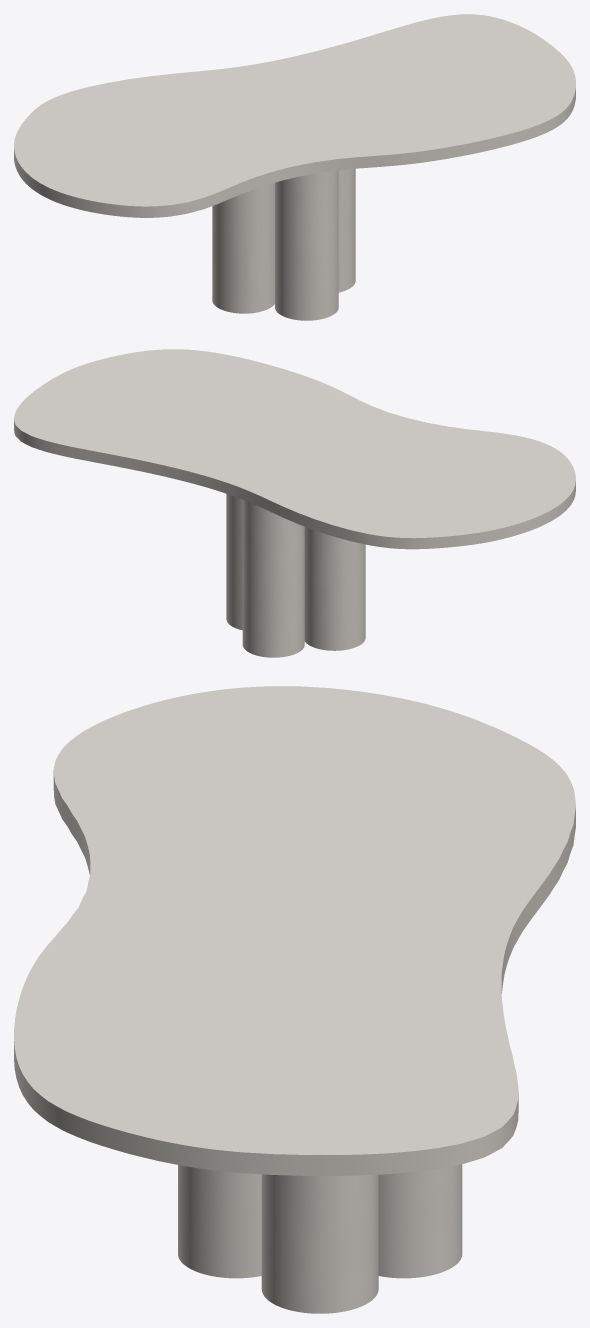
Rendered from pearlwhite_wave_standard_secondtable.glb.
3 views of the same model, one above another, from view 1: azimuth 30°, elevation 25°; view 2: azimuth 150°, elevation 25°; view 3: azimuth 270°, elevation 25° (orthographic). The views are drawn at different scales.
Visible parts, largest first — view 1: standard_wave, secondtable; view 2: standard_wave, secondtable; view 3: standard_wave, secondtable.
Part boxes in pixels (x1,y1,x2,y2): standard_wave: (14,14,575,217); secondtable: (212,168,355,320); standard_wave: (14,349,575,549); secondtable: (226,494,365,657); standard_wave: (14,686,575,1175); secondtable: (178,1164,462,1313).
Size of the model in its own units: 7.5 by 2.5 by 3.8.
1 material, 1 textured.
